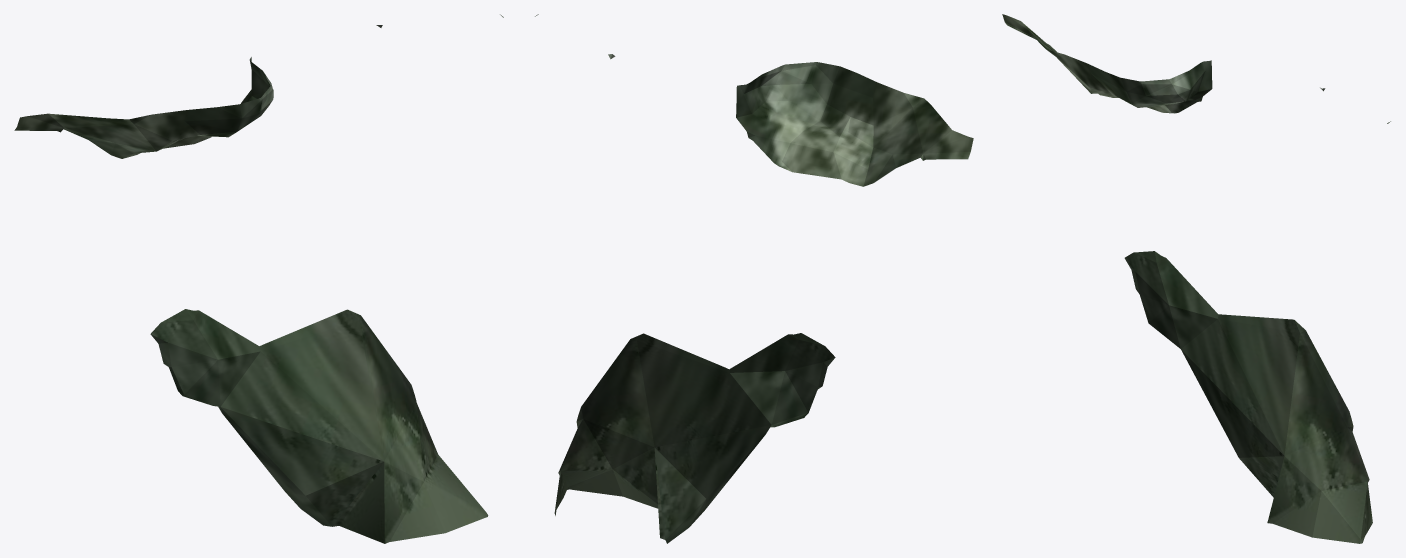
3 renders of one model, left to right at view 1: azimuth 30°, elevation 25°; view 2: azimuth 150°, elevation 25°; view 3: azimuth 330°, elevation 25°, orthographic. The views are drawn at different scales.
Size of the model in its own units: 2.95 by 2.95 by 0.5156.
1 material, 1 textured.
